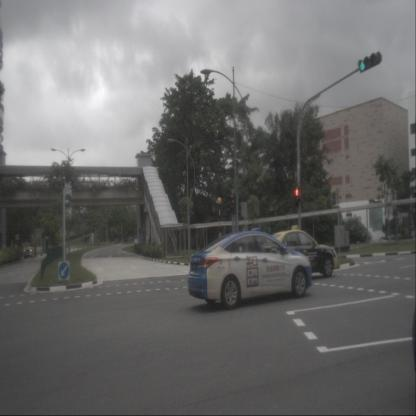vehicle-car: (188, 226, 312, 310), (256, 225, 339, 278), (24, 245, 34, 259)
